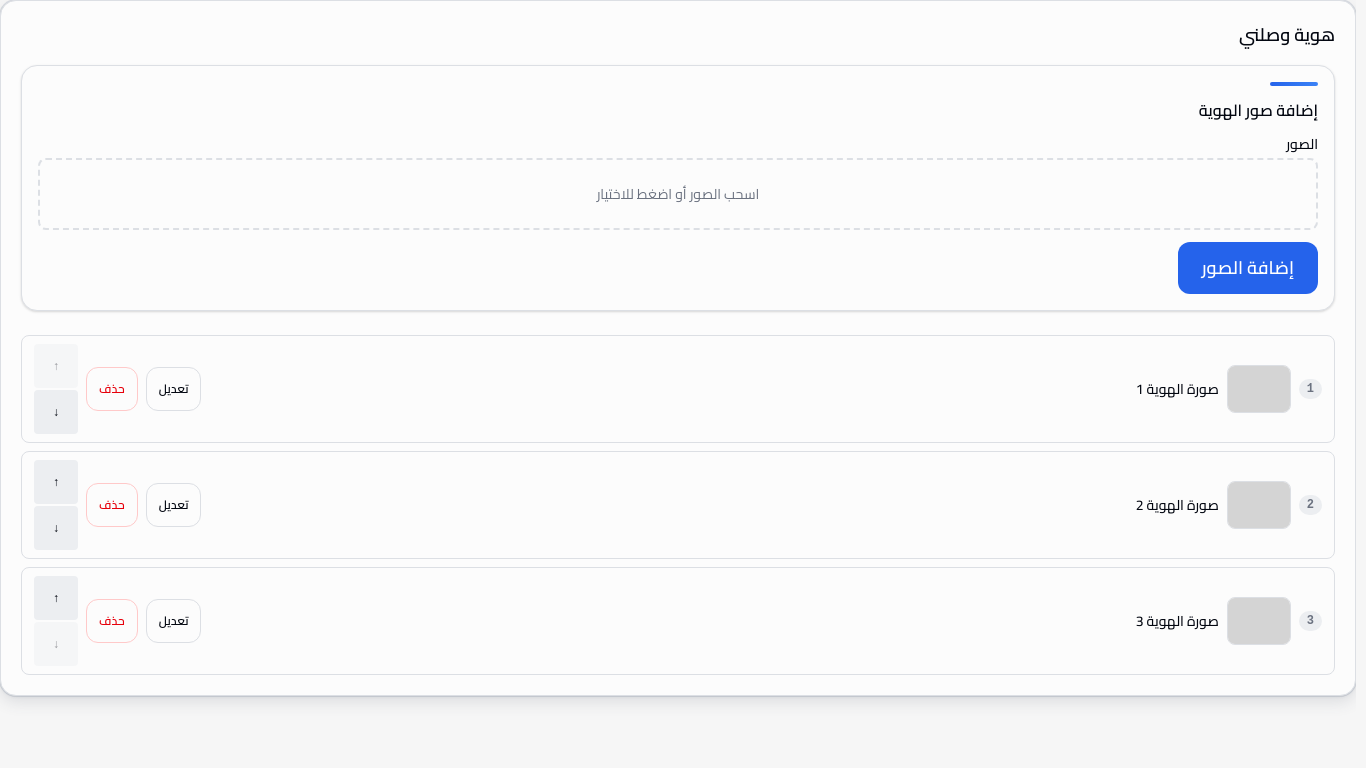
Test: IdentityAdmin brand-identity image panel › delete is two-step and drops the row at that index once confirmed
Expected: the list item with test id "identity-card-0" is shown, [21,335,1335,443]
Click the button with test id "identity-delete-1" at [112, 505], box [86,483,138,527]
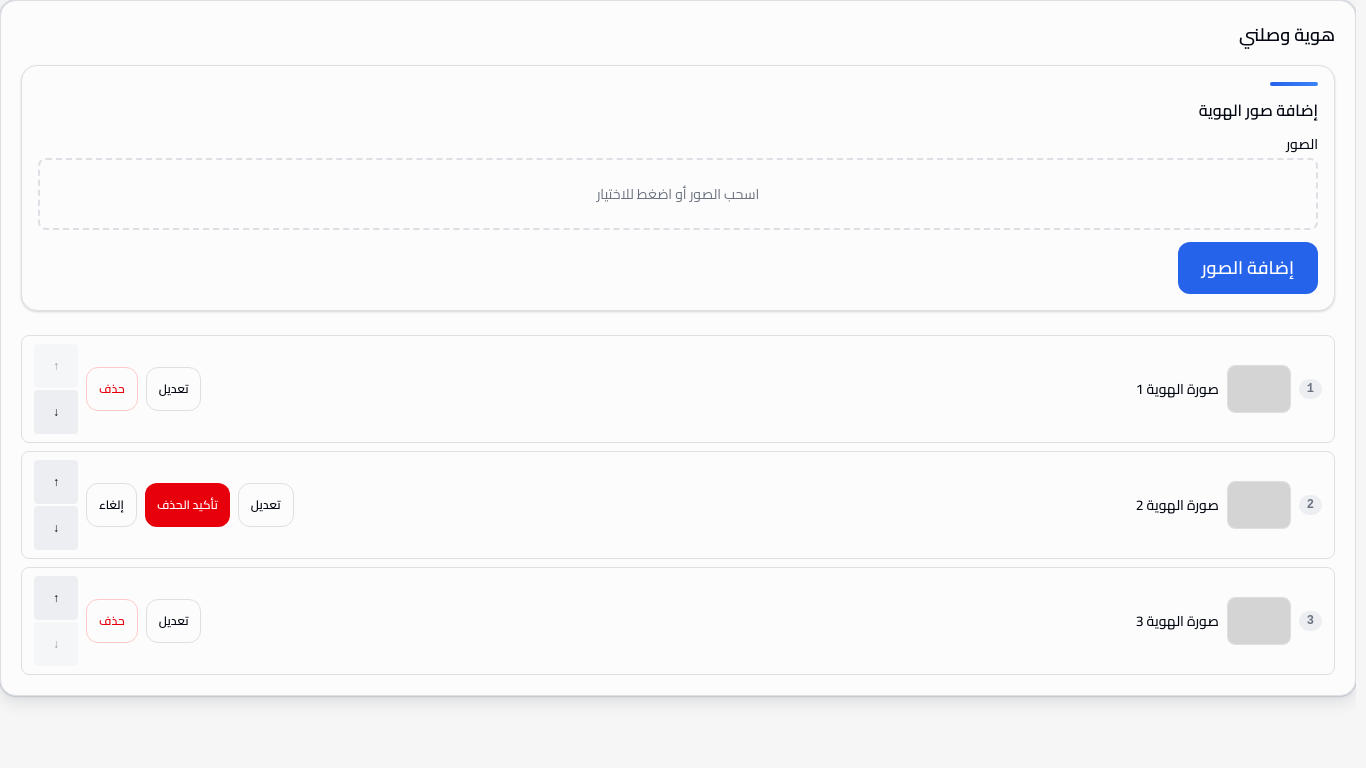
Expected: the button with test id "identity-delete-confirm-1" is shown
Click the button with test id "identity-delete-confirm-1" at [187, 505], box [145,483,230,527]
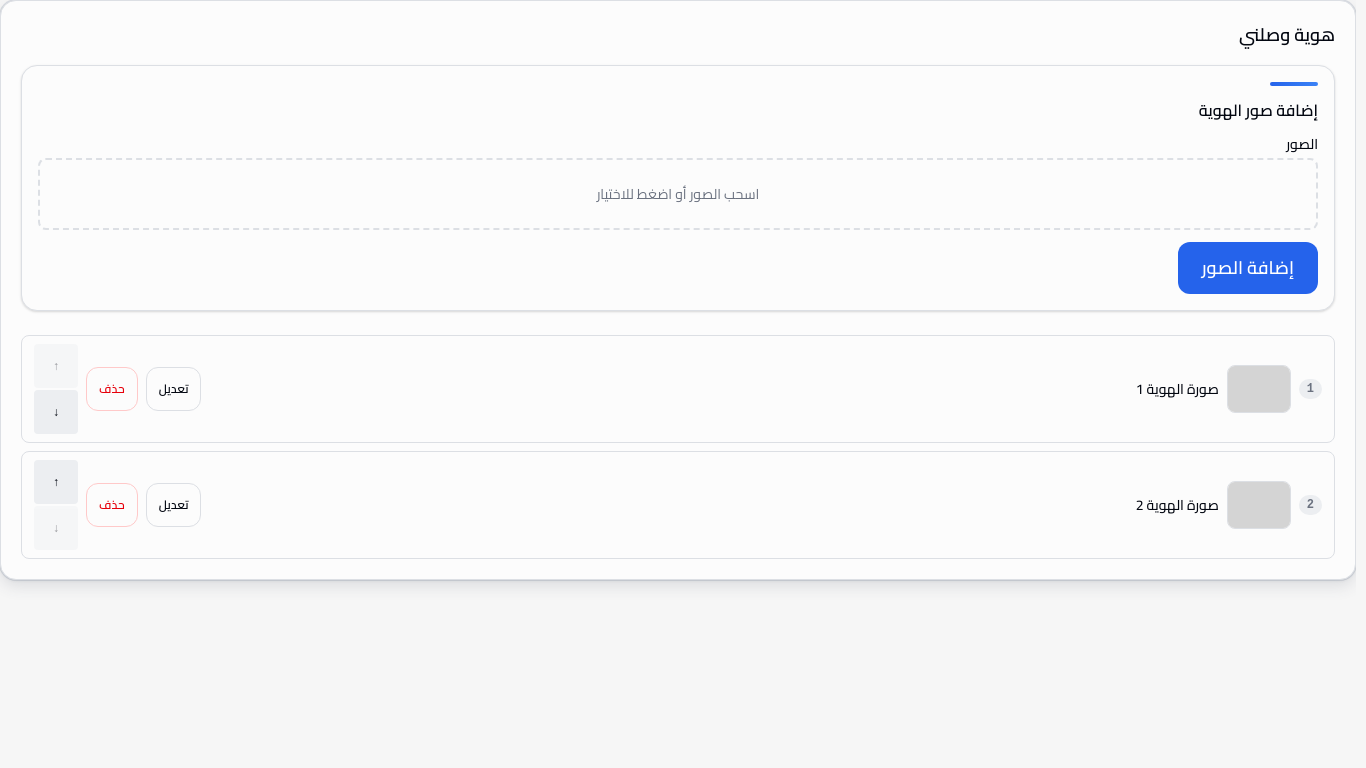
Expected: the list item with test id "identity-card-2" is gone
